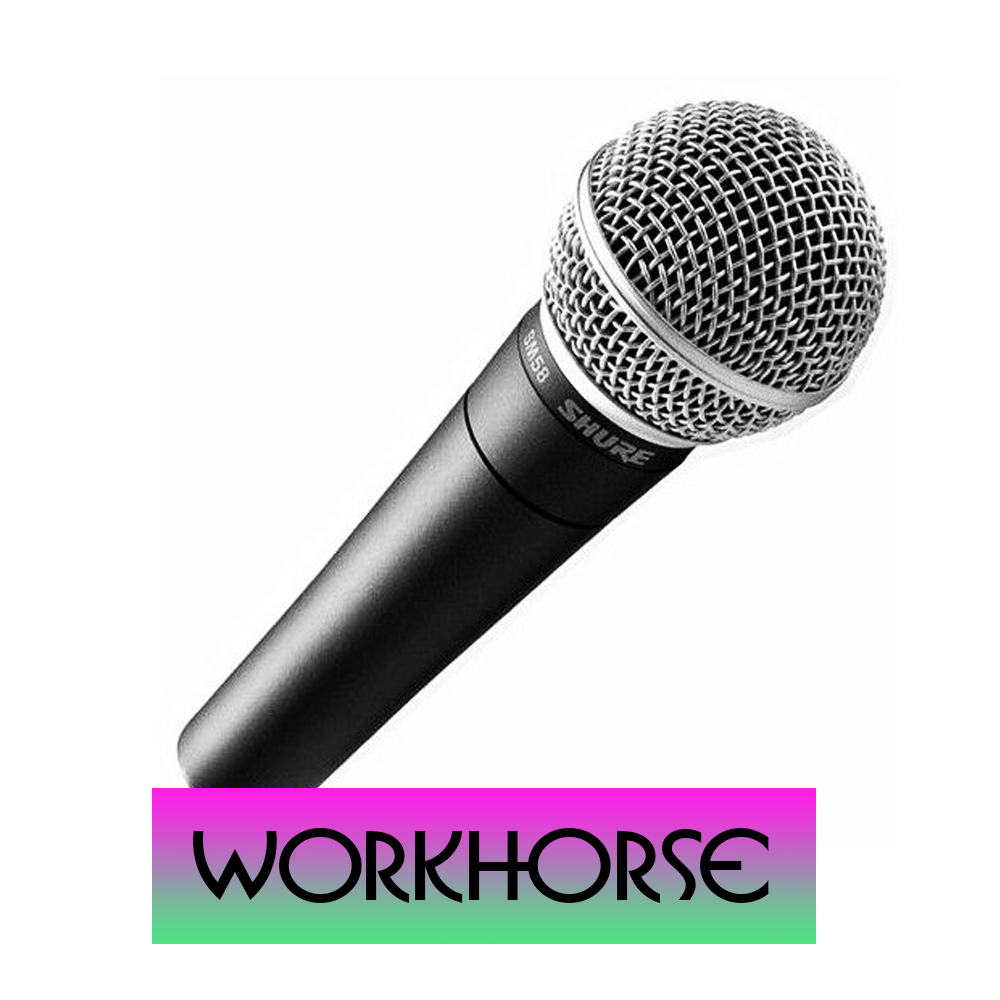microphone: (174, 98, 888, 786)
